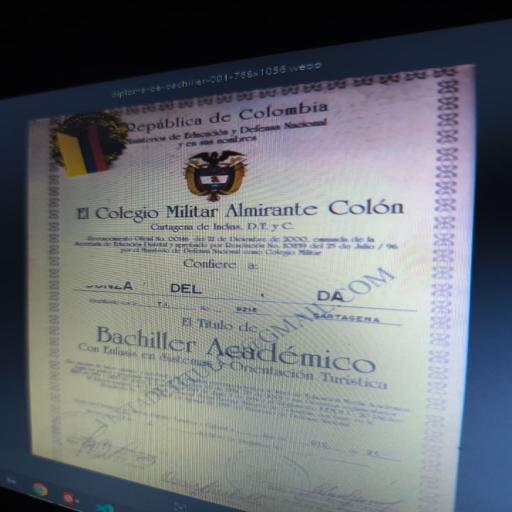bachillerato: (83, 321, 389, 376)
diploma: (29, 66, 474, 511)
escudo: (166, 147, 249, 201)
firma: (228, 457, 420, 512), (71, 435, 185, 477)
institucion: (50, 193, 427, 228)
